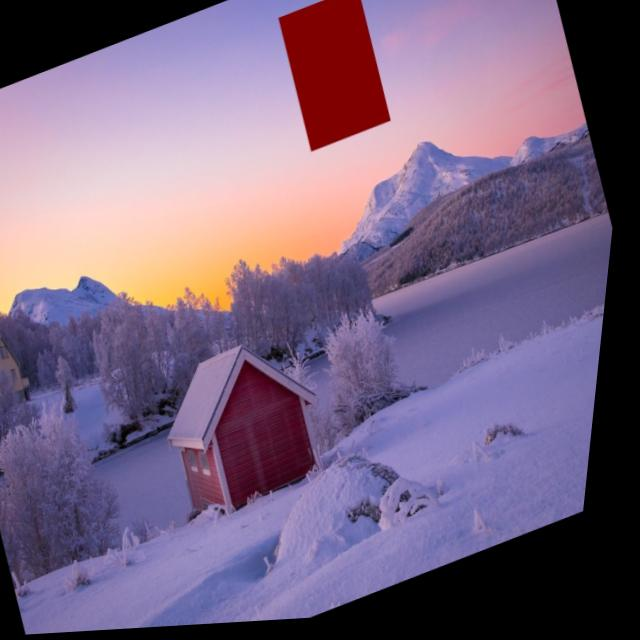RedSquare: (258, 0, 411, 165)
